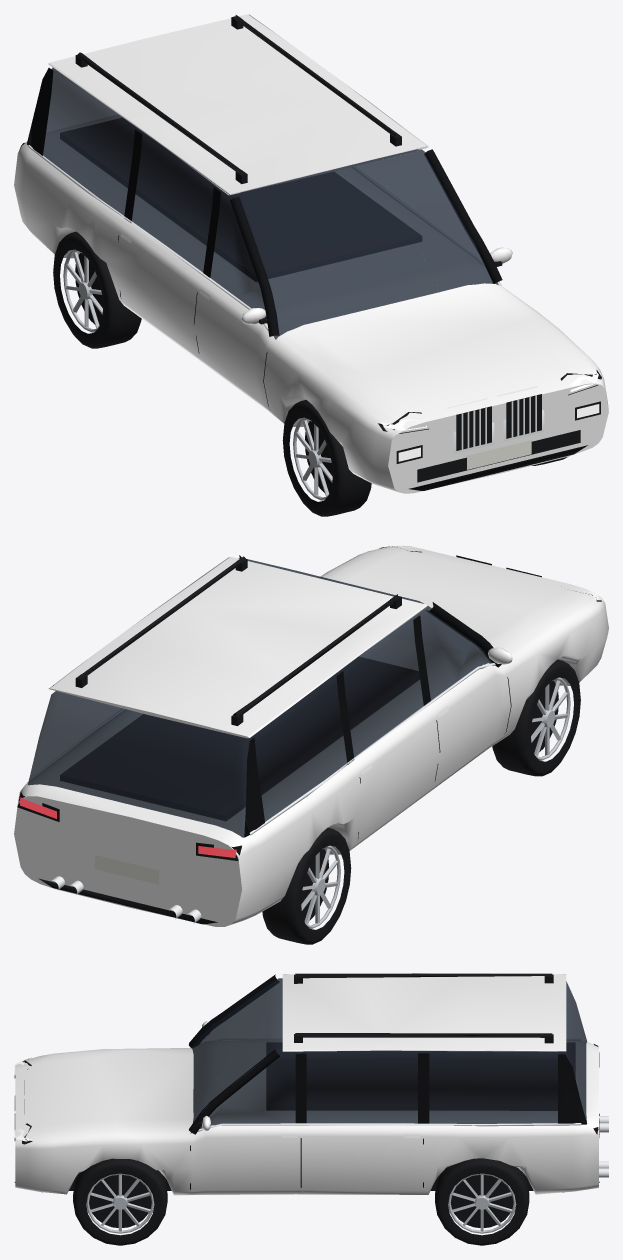
The model's file is bmw_x7_facelift.lod.glb.
3 views of the same model, one above another, from view 1: azimuth 30°, elevation 25°; view 2: azimuth 150°, elevation 25°; view 3: azimuth 270°, elevation 25° (orthographic). The views are drawn at different scales.
Visible parts, largest first — view 1: body_paint, body_glass, body_trim, door_glass, tire (×2), body_pillar, rim (×2), body_chrome, headlights; view 2: body_paint, body_glass, body_trim, tire (×2), body_pillar, rim (×2), body_chrome, rim_back (×2), taillights; view 3: body_paint, body_glass, body_trim, door_paint, tire (×2), door_glass, body_pillar, rim_back (×2), rim (×2), body_chrome, door_pillar.
Part boxes in pixels (left/top/right/bottom): body_paint: left=14, top=14, right=608, bottom=493; body_glass: left=43, top=67, right=439, bottom=339; body_trim: left=19, top=15, right=601, bottom=490; door_glass: left=375, top=151, right=498, bottom=291; tire (×2): left=53, top=231, right=371, bottom=516; body_pillar: left=27, top=68, right=502, bottom=336; rim (×2): left=63, top=249, right=332, bottom=500; body_chrome: left=27, top=145, right=544, bottom=453; headlights: left=381, top=370, right=599, bottom=461; body_paint: left=14, top=545, right=608, bottom=926; body_glass: left=28, top=558, right=492, bottom=837; body_trim: left=17, top=546, right=601, bottom=924; tire (×2): left=262, top=659, right=580, bottom=944; body_pillar: left=239, top=555, right=501, bottom=837; rim (×2): left=301, top=677, right=570, bottom=928; body_chrome: left=28, top=663, right=495, bottom=923; rim_back (×2): left=301, top=680, right=558, bottom=920; taillights: left=20, top=797, right=236, bottom=857; body_paint: left=15, top=973, right=598, bottom=1195; body_glass: left=191, top=978, right=587, bottom=1125; body_trim: left=14, top=973, right=599, bottom=1192; door_paint: left=193, top=1119, right=306, bottom=1194; tire (×2): left=73, top=1158, right=529, bottom=1245; door_glass: left=190, top=1030, right=300, bottom=1133; body_pillar: left=189, top=974, right=586, bottom=1132; rim_back (×2): left=89, top=1175, right=513, bottom=1227; rim (×2): left=86, top=1173, right=515, bottom=1233; body_chrome: left=14, top=1039, right=608, bottom=1177; door_pillar: left=192, top=1053, right=298, bottom=1134.
Bounding box in the file's own units: 2.19 × 1.93 × 5.28.
